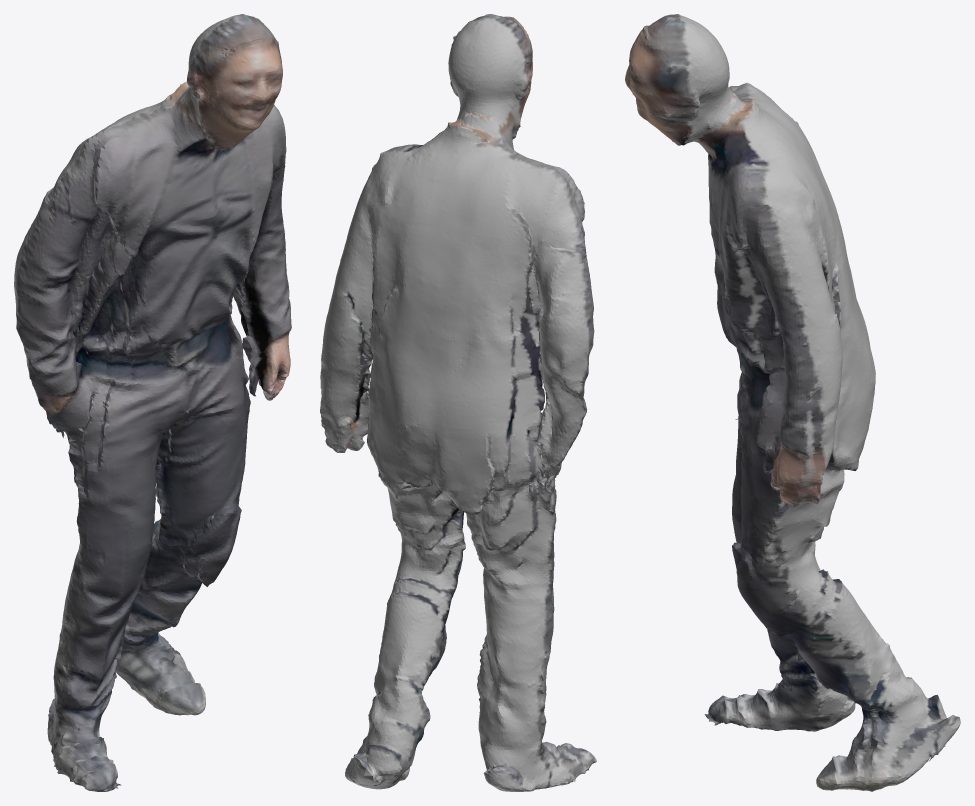
File: sample_1_textured.glb
3 renders of one model, left to right at view 1: azimuth 30°, elevation 25°; view 2: azimuth 150°, elevation 25°; view 3: azimuth 270°, elevation 25°, orthographic. The views are drawn at different scales.
Visible parts, largest first — view 1: sample_1_merged.obj; view 2: sample_1_merged.obj; view 3: sample_1_merged.obj.
Boxes of the visible parts, left/top/right/bottom form: sample_1_merged.obj: left=14, top=14, right=291, bottom=791; sample_1_merged.obj: left=320, top=14, right=596, bottom=791; sample_1_merged.obj: left=625, top=14, right=960, bottom=791.
Bounding box in the file's own units: 0.6887 × 1.8 × 0.7233.
